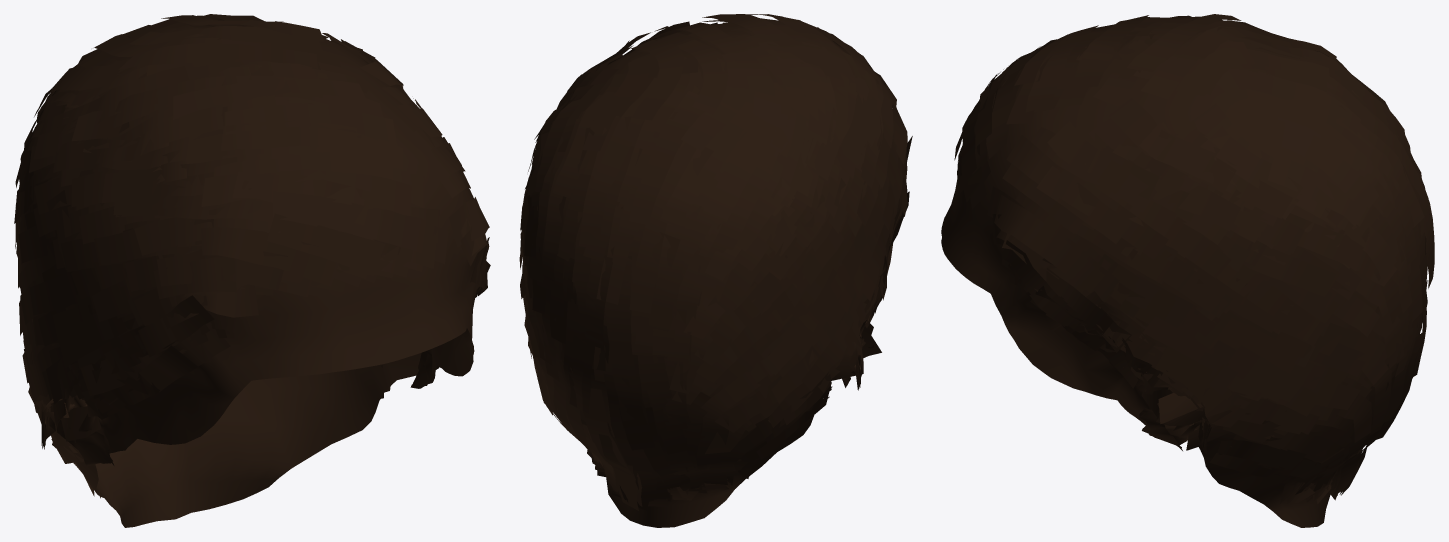
The model's file is hair_side_part.glb.
The picture shows the model from 3 angles, left to right: view 1: azimuth 30°, elevation 25°; view 2: azimuth 150°, elevation 25°; view 3: azimuth 270°, elevation 25°; orthographic projection. The views are drawn at different scales.
Parts seen in each view (by area): view 1: hair_side_part; view 2: hair_side_part; view 3: hair_side_part.
Boxes of the visible parts, x1,y1,x2,y2 form: hair_side_part: (14,14,490,527); hair_side_part: (519,14,912,527); hair_side_part: (941,14,1434,527).
Bounding box in the file's own units: 0.1878 × 0.2444 × 0.2301.
